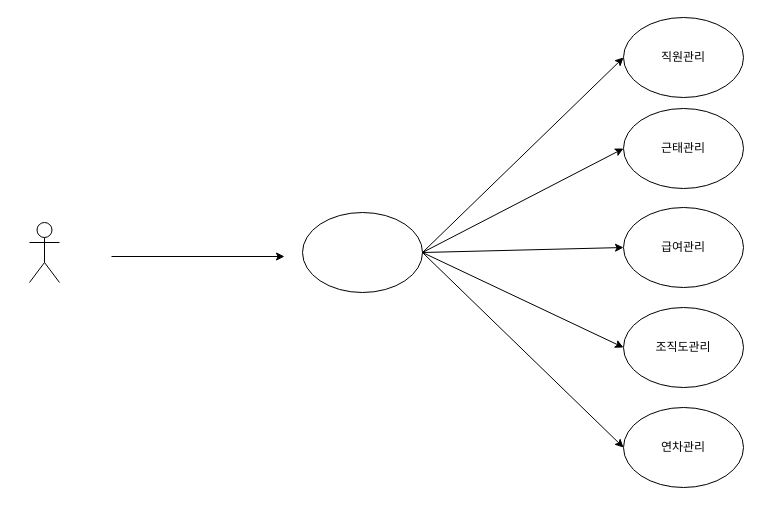
Image size: 761x505. Some labels were removed from this diagram. Each missing label, with the centre of its shape:
사이드바: the point at 362,252
인사 관리자: the point at 44,252
